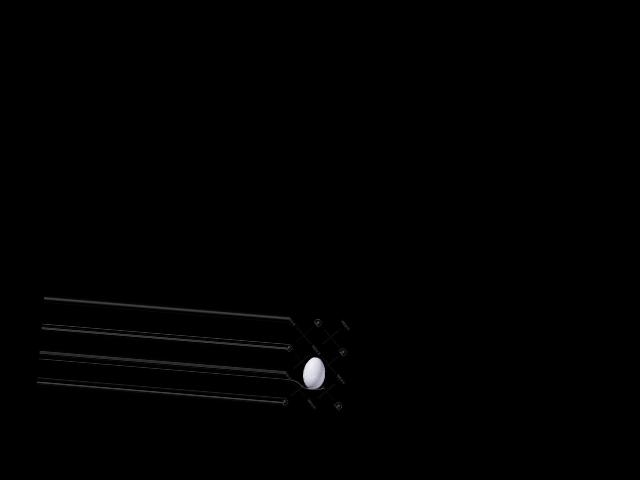egg: (301, 356, 326, 390)
